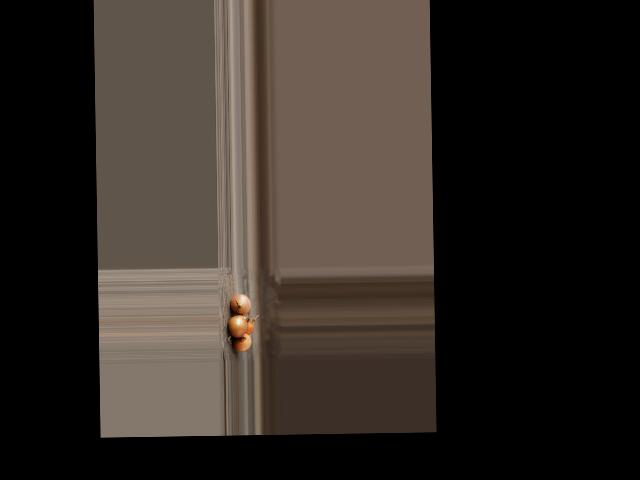onion: (239, 317, 254, 336)
